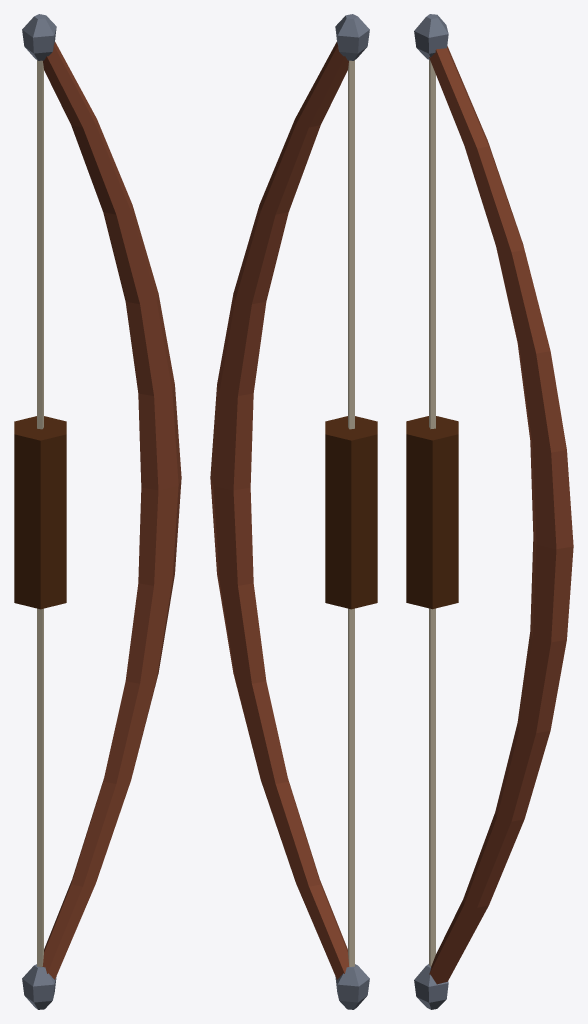
Rendered from wpn_bow_4.glb.
3 views of the same model, side by side, from view 1: azimuth 30°, elevation 25°; view 2: azimuth 150°, elevation 25°; view 3: azimuth 330°, elevation 25° (orthographic).
Visible parts, largest first — view 1: wpn_bow_4; view 2: wpn_bow_4; view 3: wpn_bow_4.
Part boxes in pixels (x1,y1,x2,y2): wpn_bow_4: [14, 14, 181, 1009]; wpn_bow_4: [210, 14, 377, 1009]; wpn_bow_4: [406, 14, 573, 1009].
Size of the model in its own units: 0.166 by 0.94 by 0.045.
